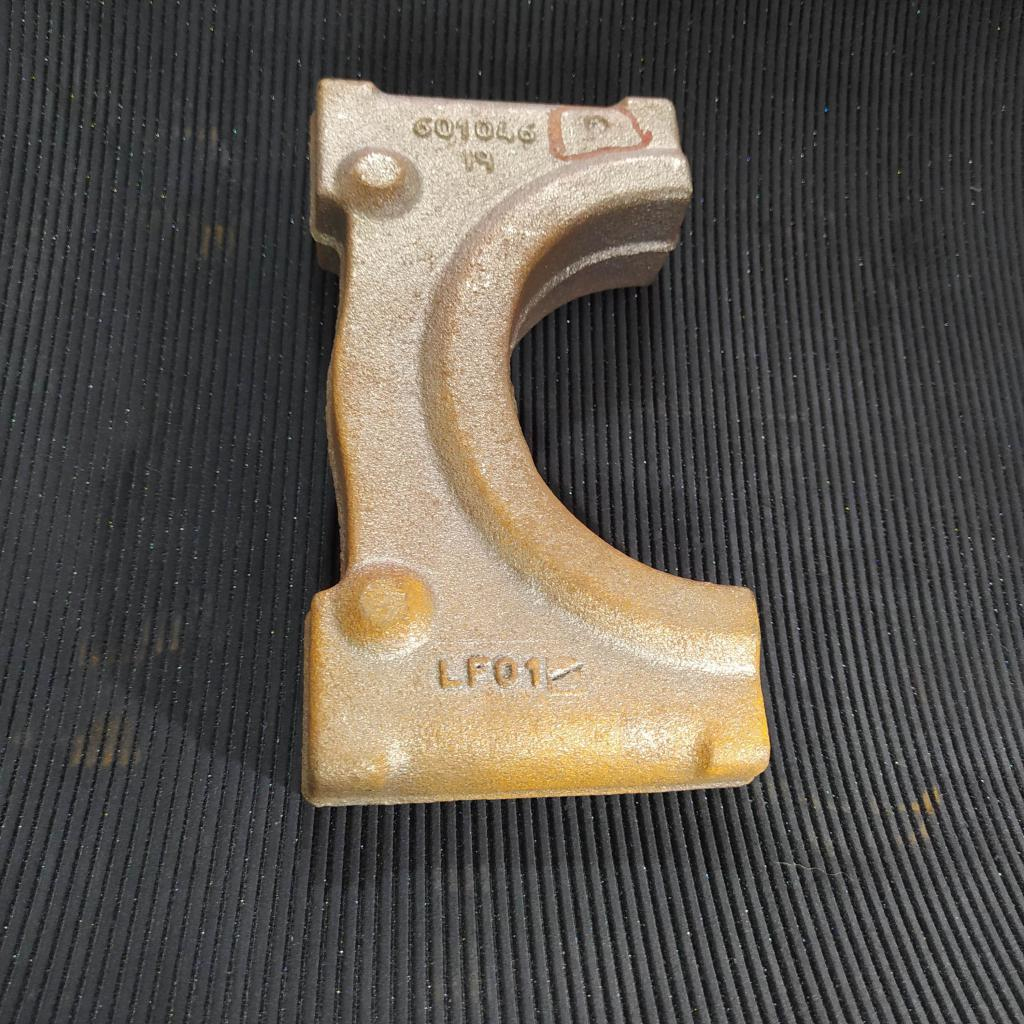buraco: (583, 113, 613, 141)
